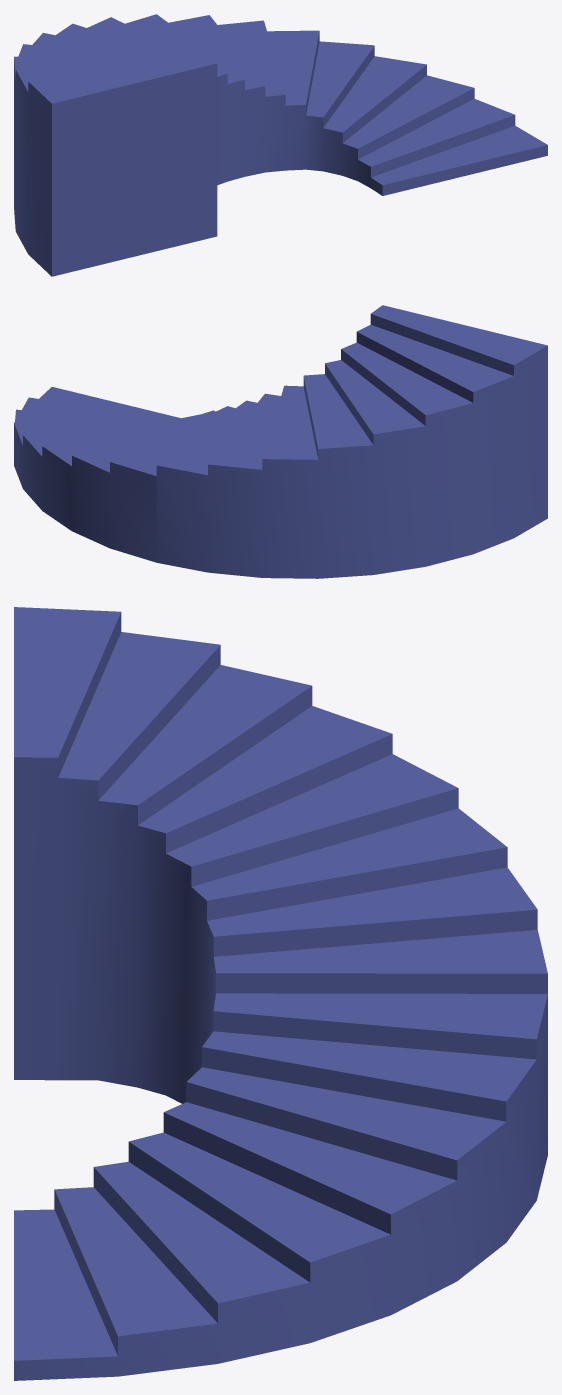
Rendered from SM_Stair_Curved_High_01.fbx.
3 renders of one model, top to bottom at view 1: azimuth 30°, elevation 25°; view 2: azimuth 150°, elevation 25°; view 3: azimuth 270°, elevation 25°, orthographic. The views are drawn at different scales.
Visible parts, largest first — view 1: SM_Stair_Curved_High_01; view 2: SM_Stair_Curved_High_01; view 3: SM_Stair_Curved_High_01.
Part boxes in pixels (x1,y1,x2,y2): SM_Stair_Curved_High_01: (14,14,547,276); SM_Stair_Curved_High_01: (14,305,547,578); SM_Stair_Curved_High_01: (14,607,547,1380).
Size of the model in its own units: 600 by 200 by 300.
